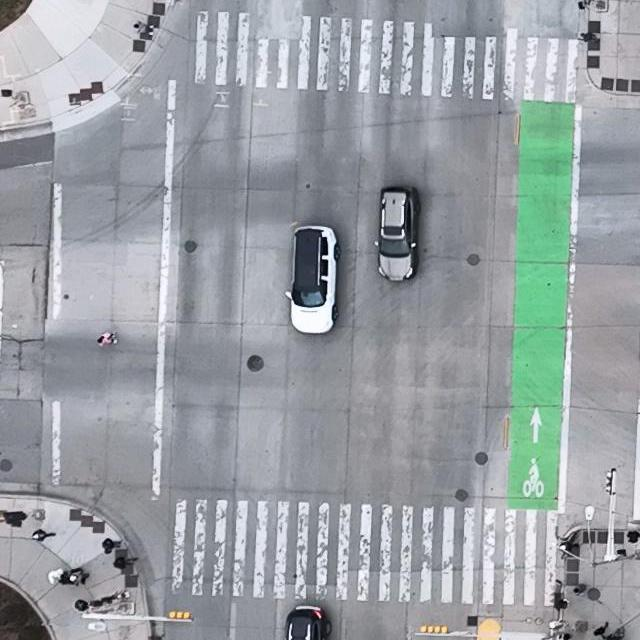car: (283, 226, 342, 335), (374, 185, 419, 282), (285, 606, 333, 640)
